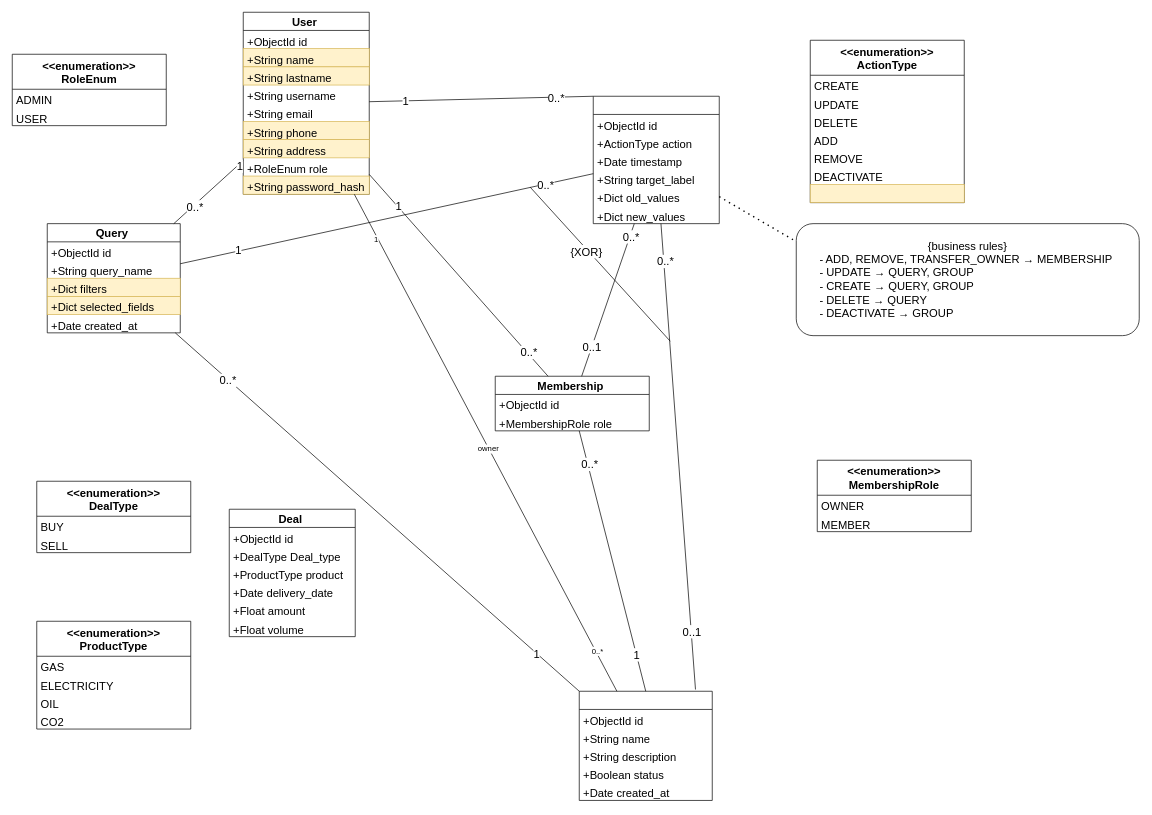
Some shapes in this 1152 by 815 pixel diagram are drawn without their labels. The box of each missing label's shape, as (x1, y1, x2, y2) in pixels:
Audit: (593, 96, 719, 224)
Group: (579, 691, 712, 800)
TRANSFER_OWNER: (810, 184, 964, 203)
